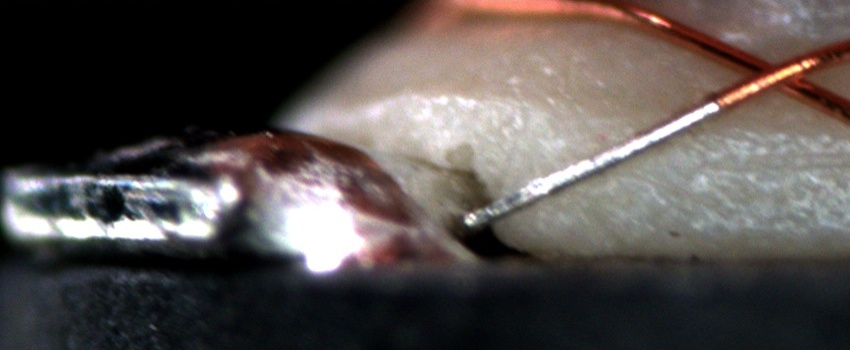CL: (727, 45, 823, 101)
DL: (682, 129, 850, 193)
TS: (460, 97, 722, 228)
